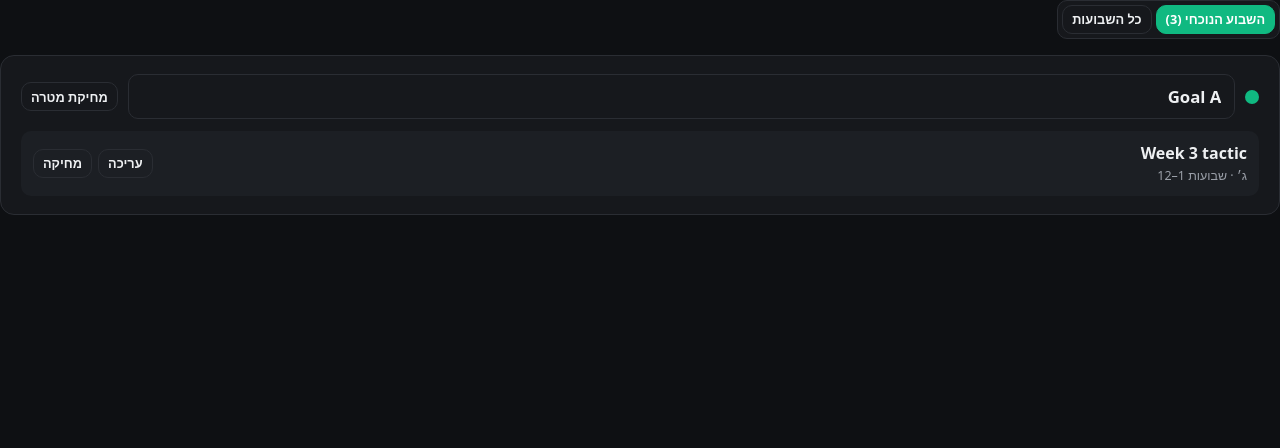
Test: GoalsPanel week view › toggles between current-week effective tactics and the full cycle plan
Expected: the text "Week 3 tactic" is shown, [1141, 141, 1247, 165]
Expected: the text "Base tactic" is not shown
Click the button "כל השבועות" at [1107, 19], box [1062, 5, 1152, 34]
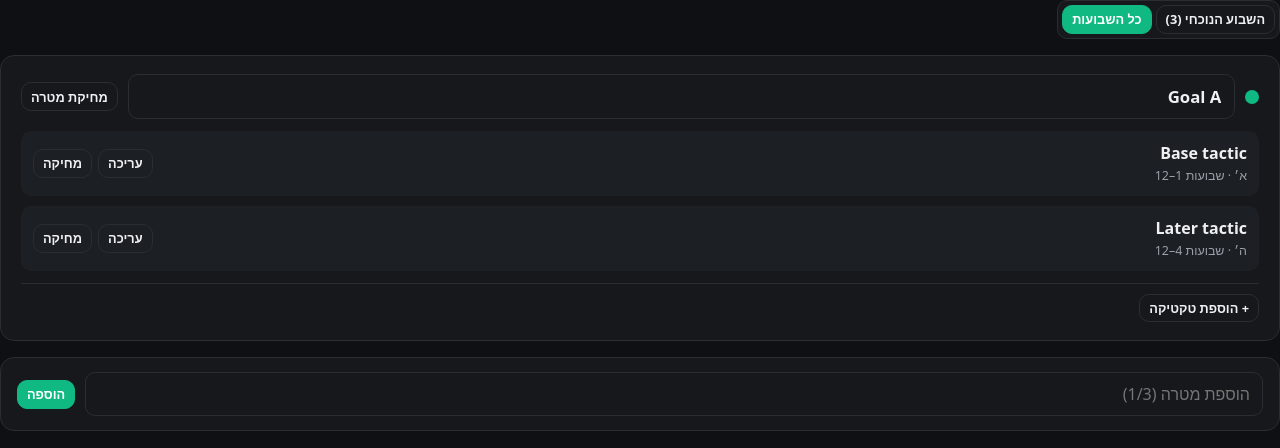
Now the text "Base tactic" is shown, box [1155, 141, 1247, 165]
Now the text "Later tactic" is shown, box [1155, 216, 1247, 240]
Now the text "Week 3 tactic" is gone
